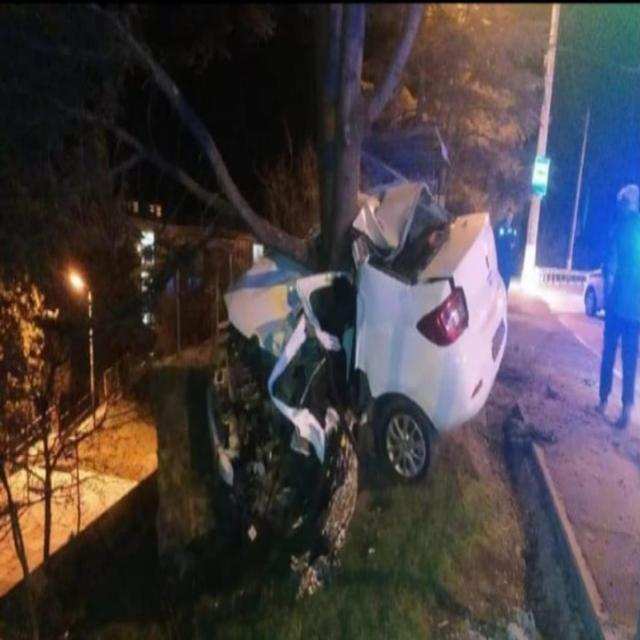accident: (209, 182, 508, 534)
